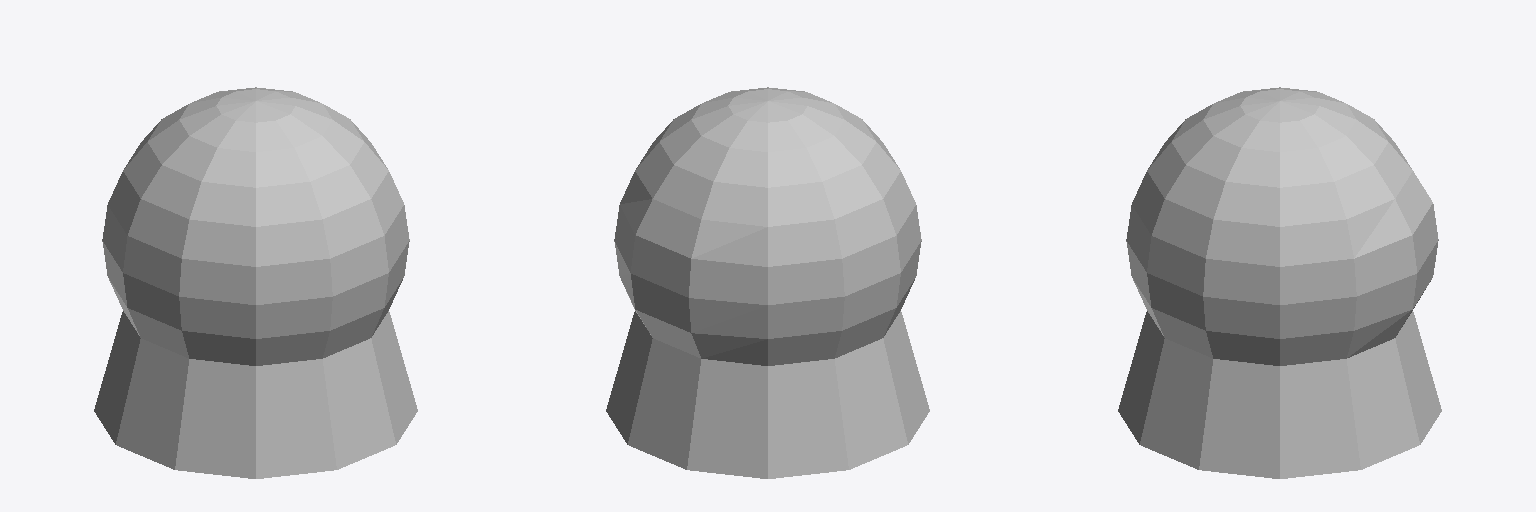
The model's file is Snowglobe.obj.
3 renders of one model, left to right at view 1: azimuth 30°, elevation 25°; view 2: azimuth 150°, elevation 25°; view 3: azimuth 270°, elevation 25°, orthographic.
Parts seen in each view (by area): view 1: pSphere1; view 2: pSphere1; view 3: pSphere1.
Part boxes in pixels (x1,y1,x2,y2): pSphere1: (94, 87, 417, 478); pSphere1: (606, 87, 929, 478); pSphere1: (1118, 87, 1441, 478).
Size of the model in its own units: 2.11 by 2.22 by 2.11.